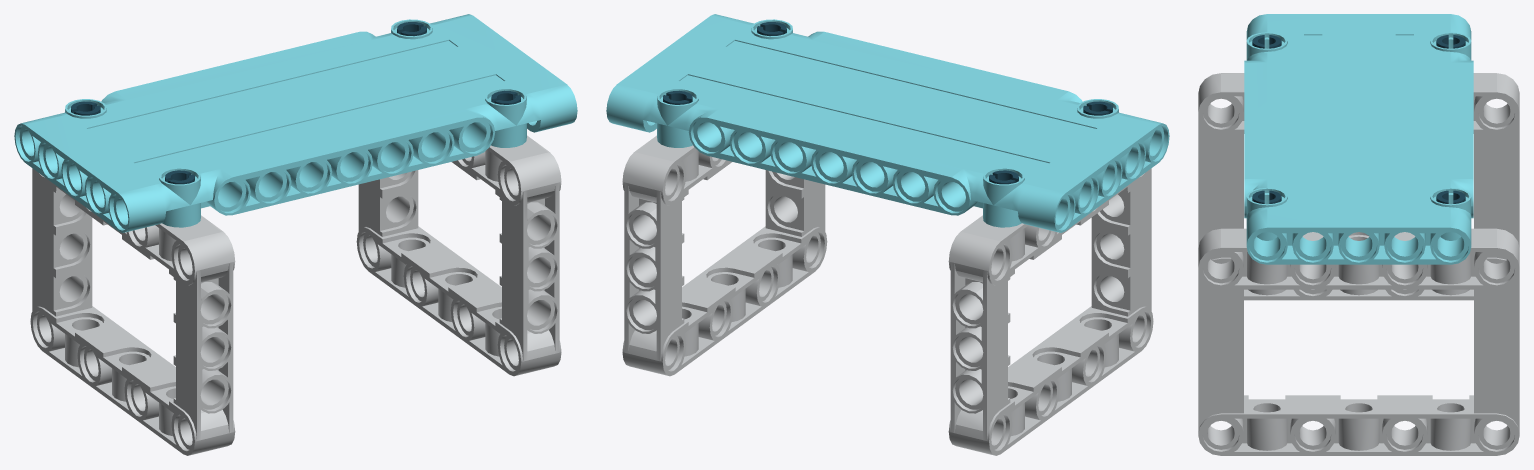
File: 08_car_sharing.glb
3 views of the same model, side by side, from view 1: azimuth 30°, elevation 25°; view 2: azimuth 150°, elevation 25°; view 3: azimuth 270°, elevation 25° (orthographic). The views are drawn at different scales.
Visible parts, largest first — view 1: Base (×3); view 2: Base (×3); view 3: Base (×3).
Part boxes in pixels (x1=…): Base (×3): x1=14, y1=14, x2=577, y2=455; Base (×3): x1=606, y1=14, x2=1169, y2=455; Base (×3): x1=1198, y1=14, x2=1519, y2=455.
Bounding box in the file's own units: 220 × 120 × 140.
